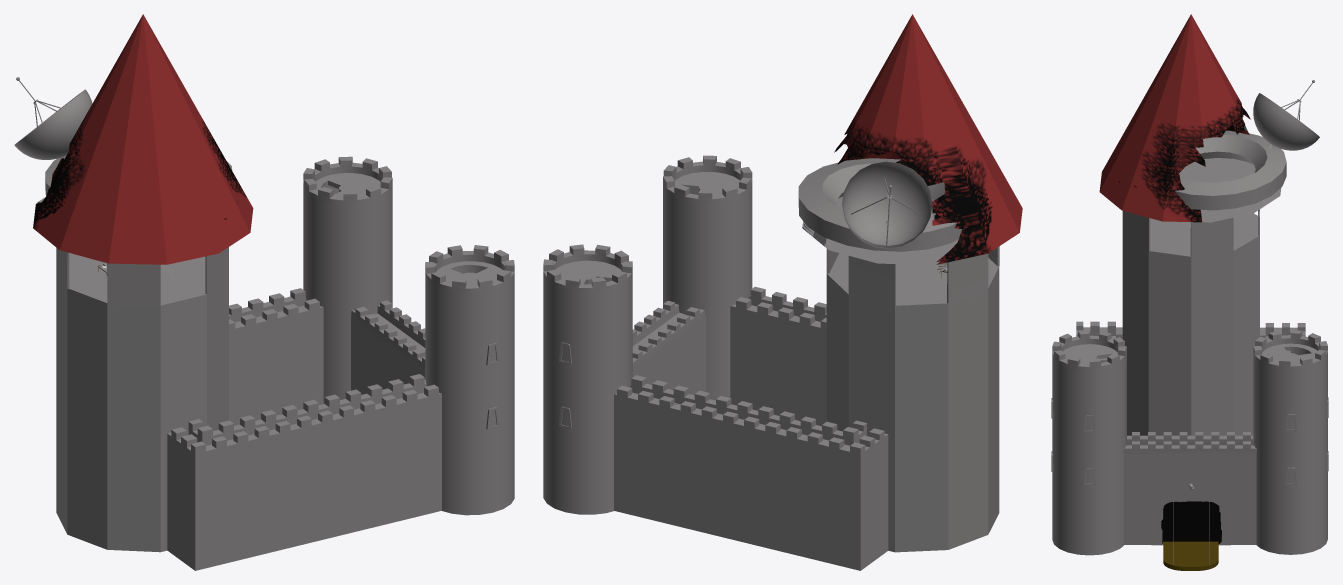
The model's file is Putercassss.fbx.
3 renders of one model, left to right at view 1: azimuth 30°, elevation 25°; view 2: azimuth 150°, elevation 25°; view 3: azimuth 270°, elevation 25°, orthographic. The views are drawn at different scales.
Visible parts, largest first — view 1: Gate_and_chains; view 2: Gate_and_chains; view 3: Gate_and_chains.
Part boxes in pixels (bbox=[...]): Gate_and_chains: bbox=[14, 14, 514, 570]; Gate_and_chains: bbox=[543, 14, 1022, 570]; Gate_and_chains: bbox=[1051, 14, 1328, 570].
Bounding box in the file's own units: 35.03 × 38.51 × 23.14.
Materials: 4 (2 with a texture image).
